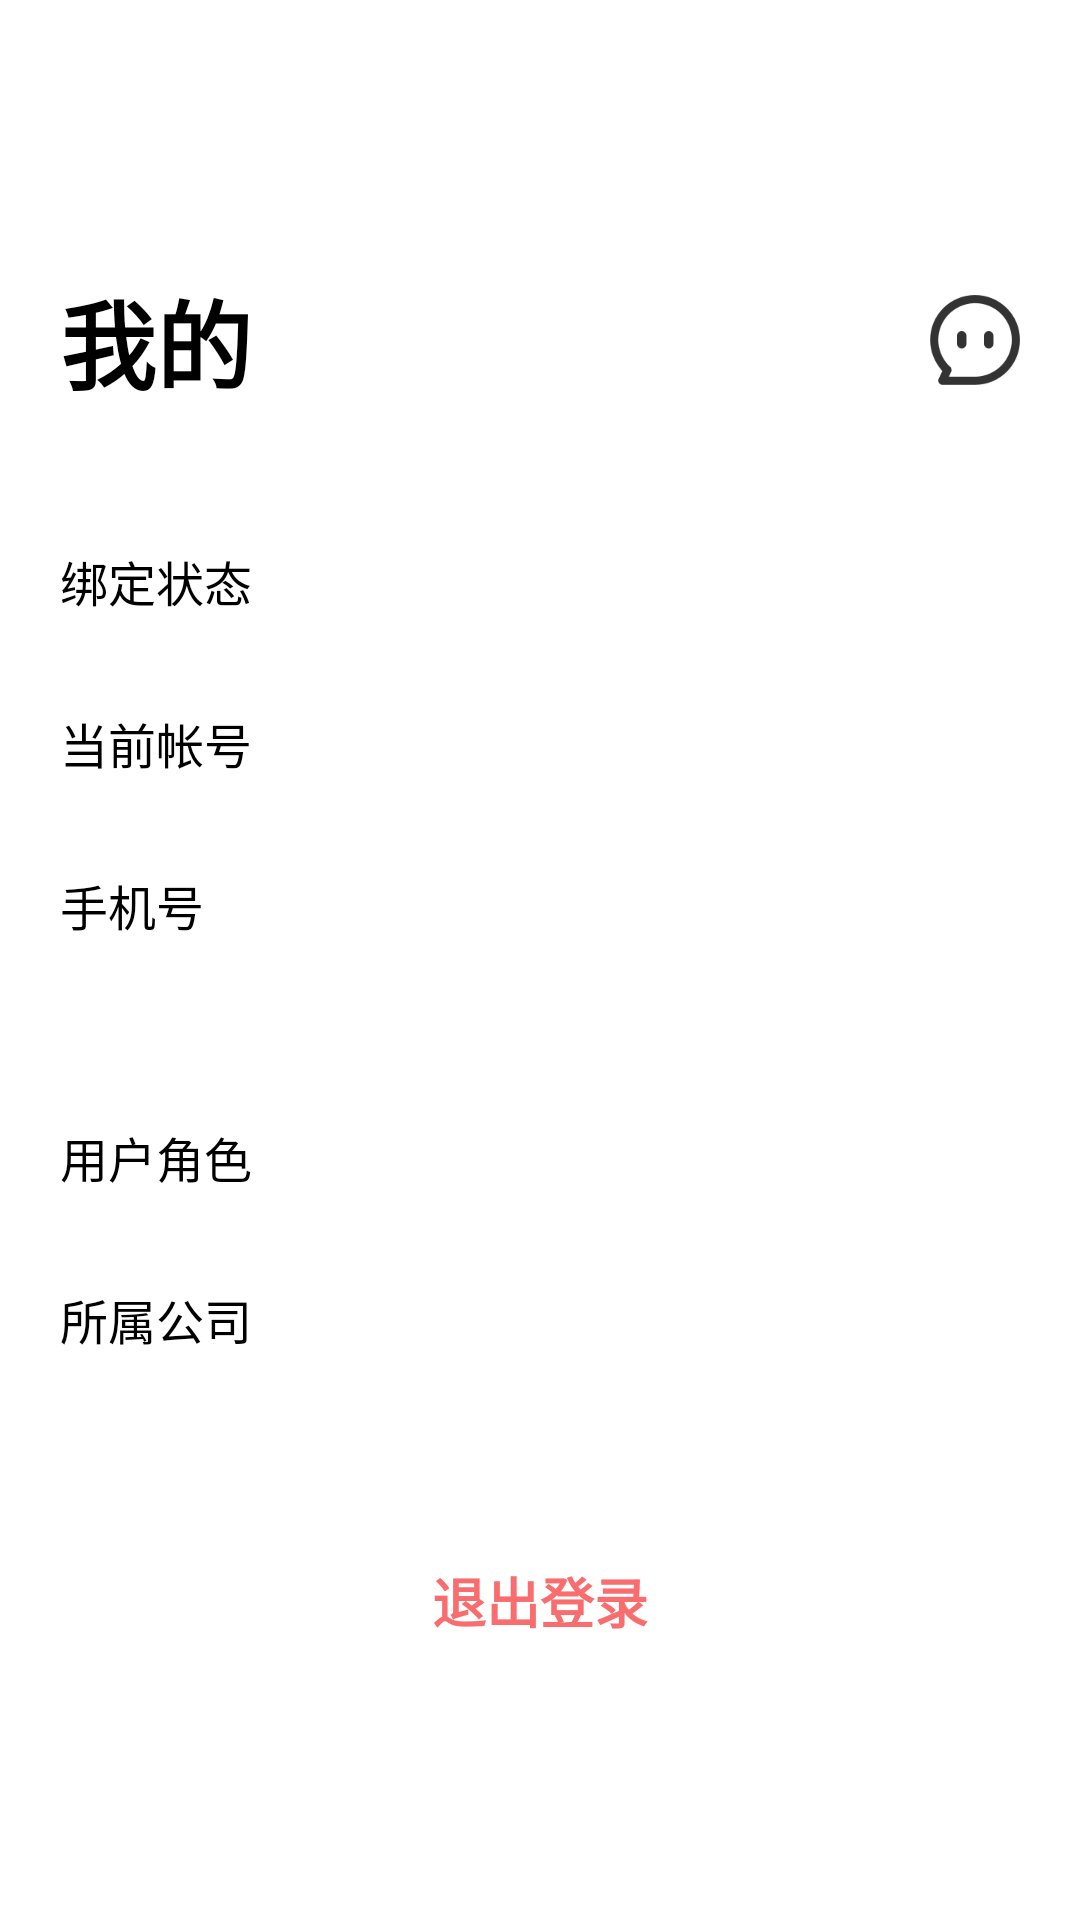

Icons on this 1080px×1920px Android screen, each with its box as (x1, y1, x2, y2):
message: (930, 295, 1020, 385)
